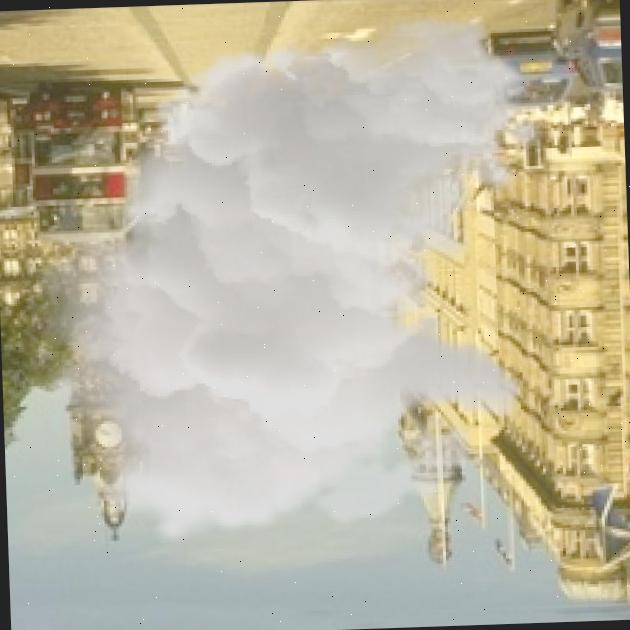smoke: (13, 8, 562, 552)
